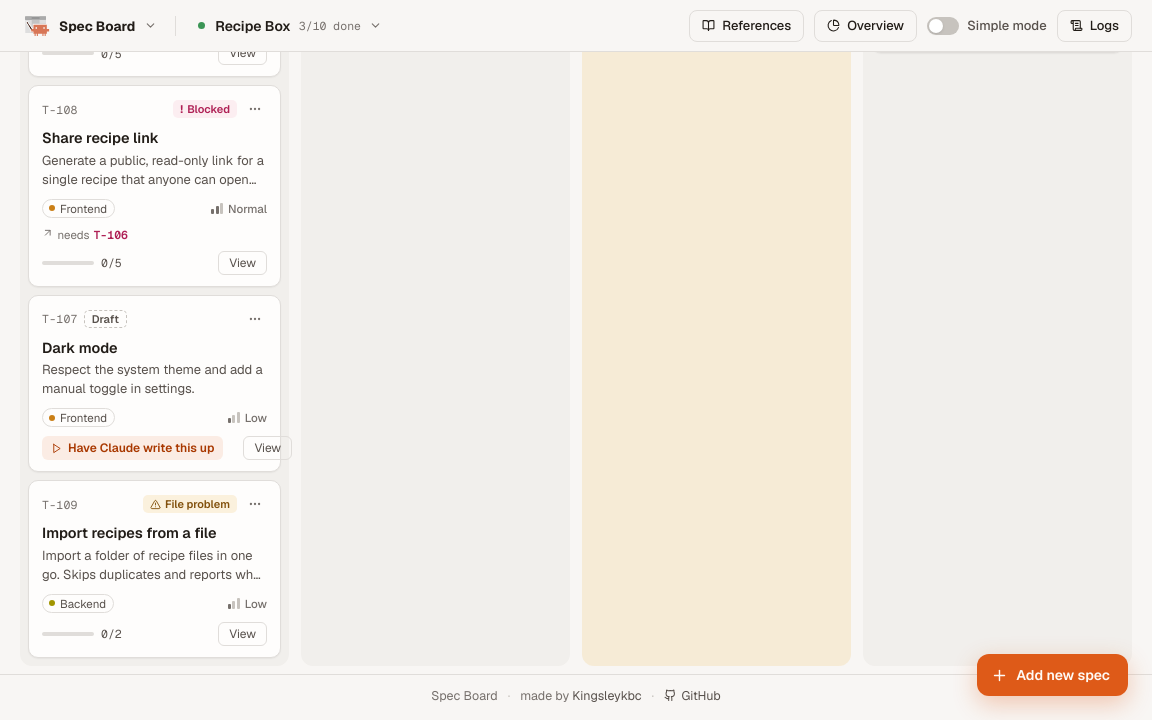
Scenario: the actions start the right kind › a write-up refused as busy shows the toast naming the spec Claude is on
(page scrolled)
Step 1. Click the button "Have Claude write this up" → point(133, 448), box [42, 436, 223, 460]
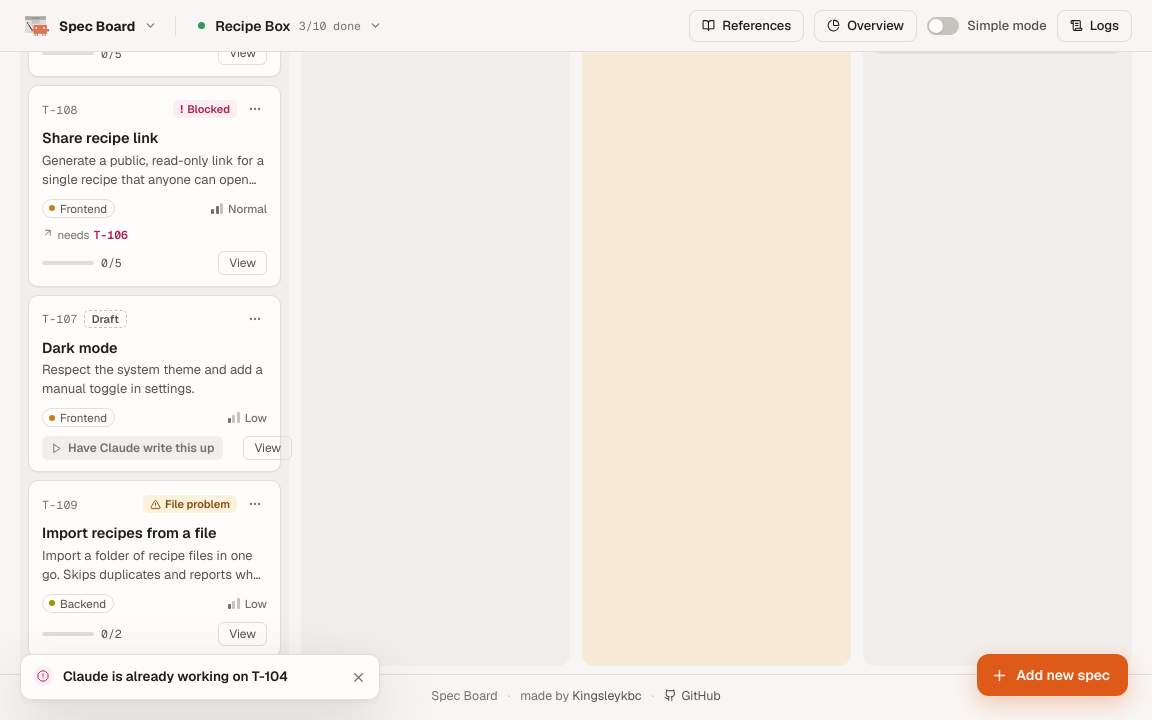
expect the text "Claude is already working on T-104" is shown: met, box [63, 667, 288, 685]
